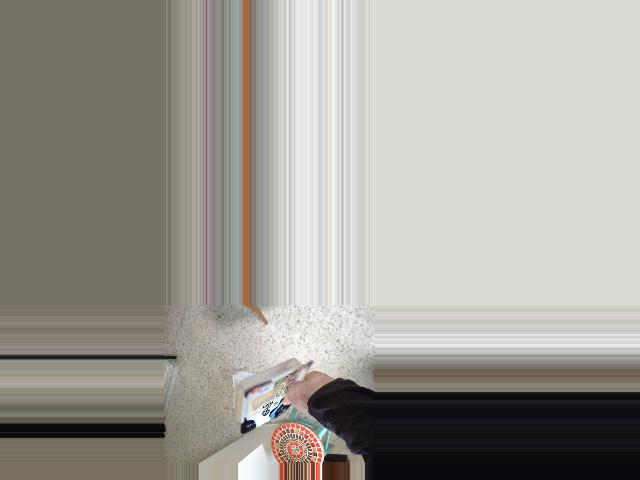cheese: (231, 349, 331, 447)
